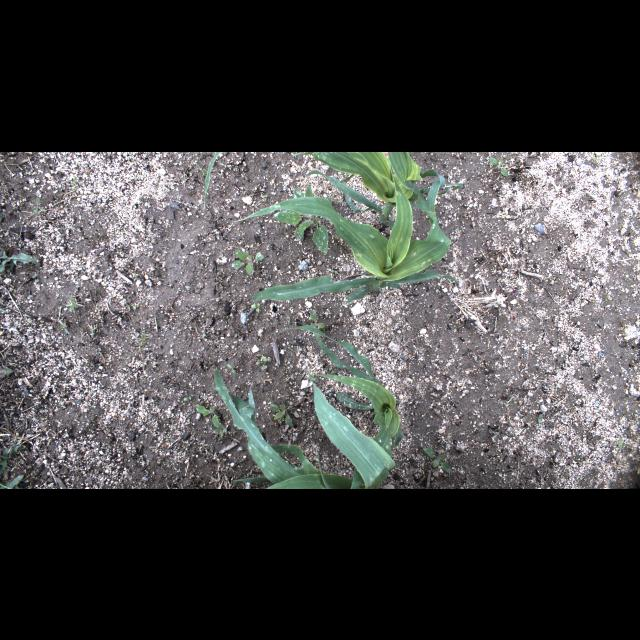crop: (235, 162, 465, 304), (214, 370, 396, 488), (276, 323, 404, 485), (292, 152, 436, 232), (203, 152, 220, 210)
weed: (272, 184, 330, 253), (194, 404, 228, 442), (1, 244, 40, 274), (231, 248, 265, 276), (2, 445, 24, 477), (424, 447, 450, 473), (268, 402, 292, 428), (489, 154, 509, 176), (1, 472, 26, 488), (308, 308, 326, 330), (66, 296, 84, 310), (34, 196, 46, 214), (226, 363, 237, 377), (249, 302, 259, 314), (537, 414, 543, 424)
